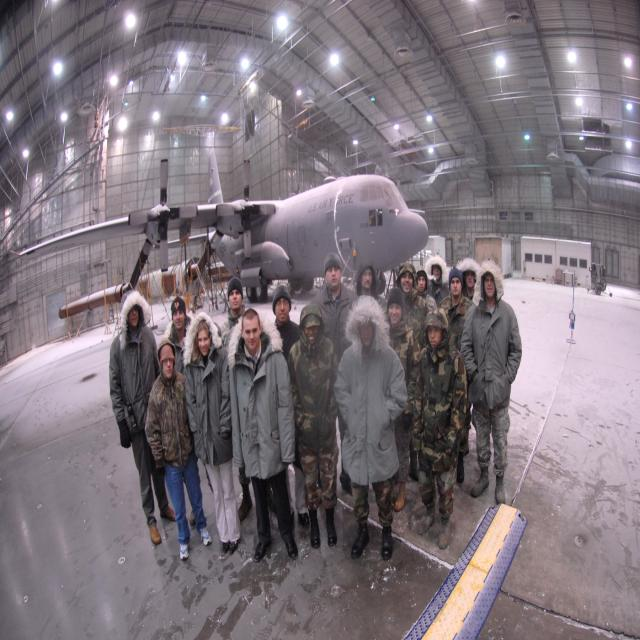MIL_Plane: (169, 147, 269, 303)
